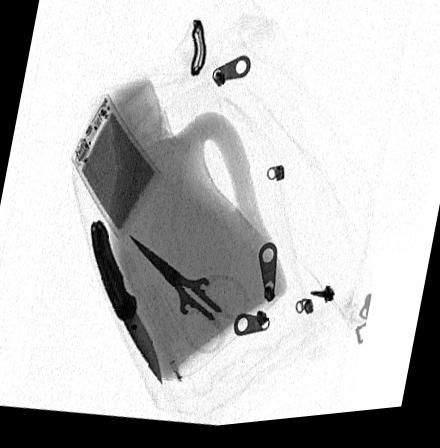Knife: (91, 220, 163, 387)
Powerbank: (68, 94, 162, 244)
Scissors: (127, 235, 248, 361)
